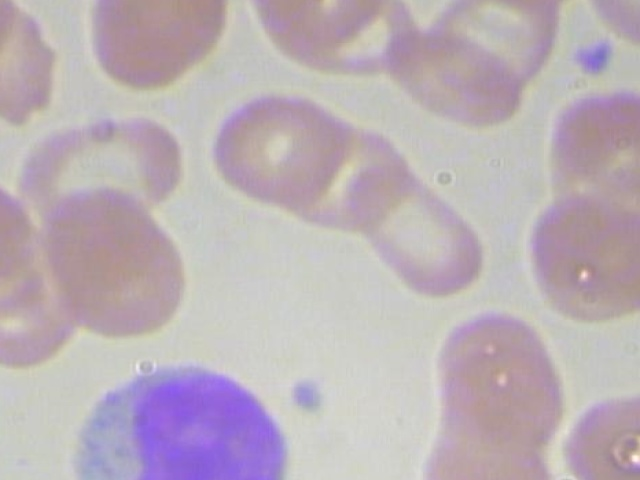Platelets: (571, 32, 623, 84), (283, 378, 326, 417)
RBC: (42, 184, 197, 350), (338, 157, 505, 300), (8, 111, 190, 236), (198, 86, 360, 212), (522, 186, 640, 329), (75, 0, 238, 101), (378, 26, 527, 134), (0, 227, 87, 369), (560, 388, 640, 480)
WBC: (60, 354, 294, 480)
